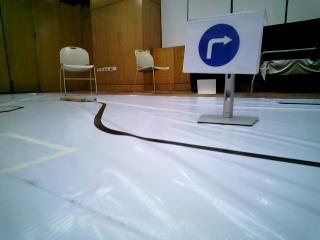right: (185, 18, 259, 72)
